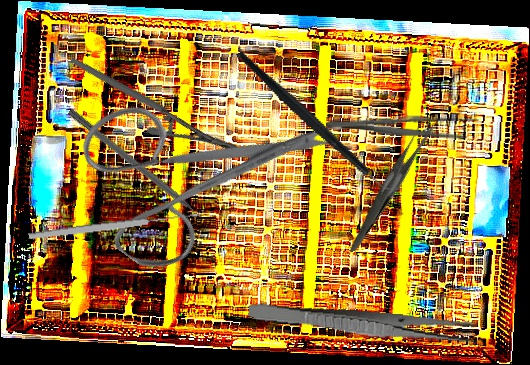Chopper: (236, 15, 402, 229)
Dressing Forceps: (317, 118, 461, 253), (247, 301, 478, 346), (325, 112, 480, 141)
Iris Scissors: (41, 9, 349, 320)
Needle Holder: (69, 14, 240, 194)
Pusher: (66, 107, 214, 231)
Surgical Spoon: (28, 210, 198, 242)
